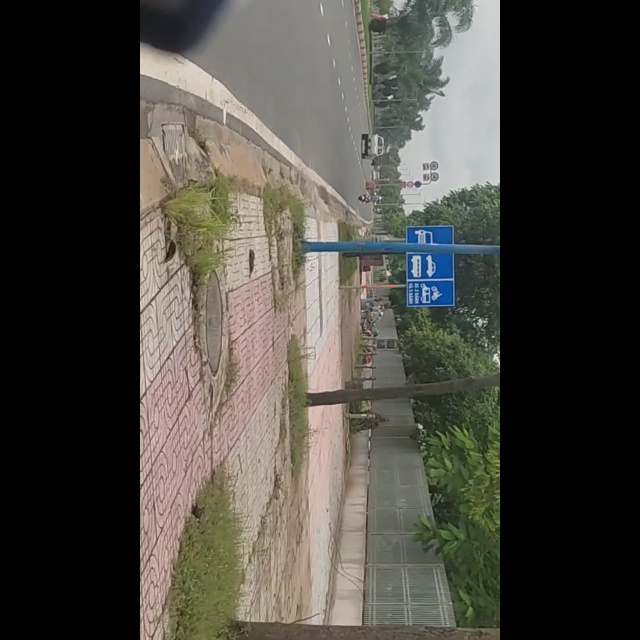bien_cam: (472, 222, 565, 307)
